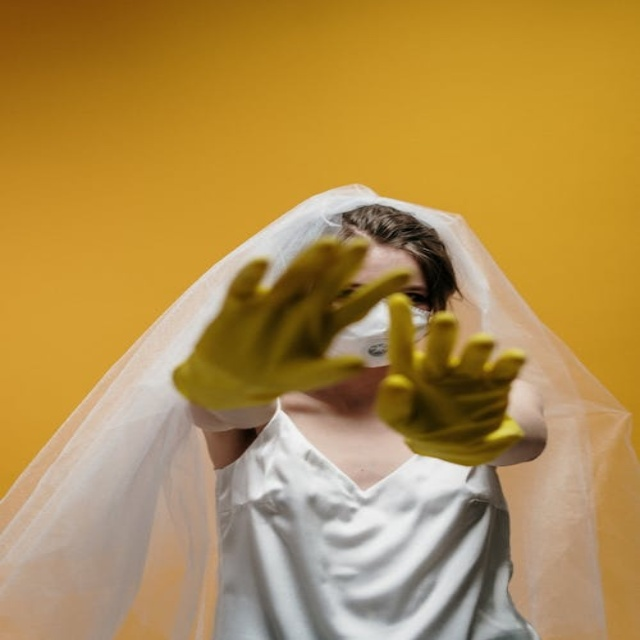Guantes: (171, 233, 407, 420), (376, 295, 529, 464)
Mascara: (326, 296, 431, 367)
